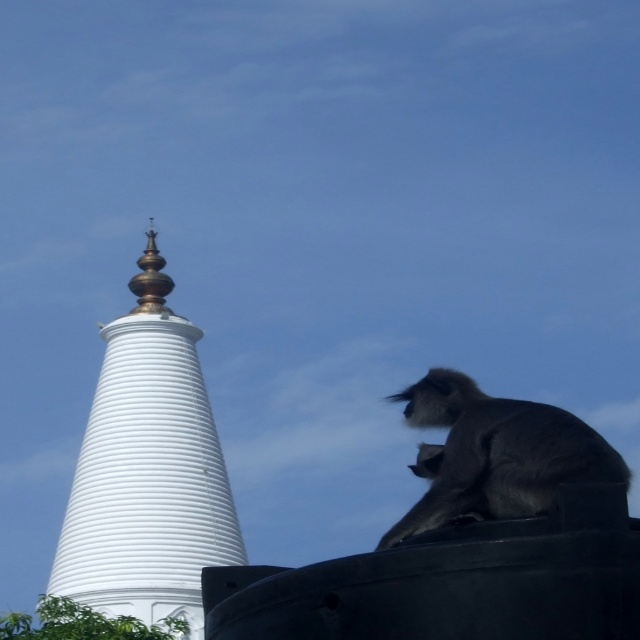Monkey: (350, 368, 620, 564)
